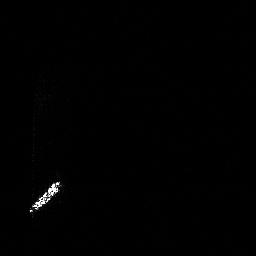ship: (29, 178, 64, 216)
